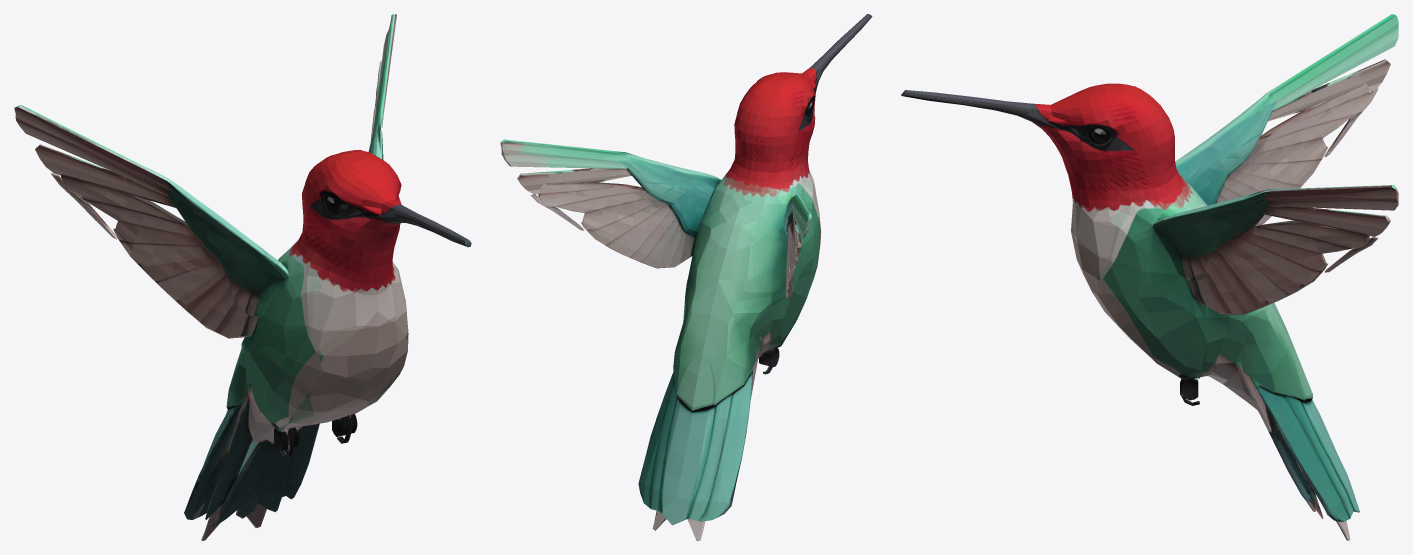
The model's file is tripo_convert_95633708-72a4-43d4-957a-7c63cec19999.fbx.
3 renders of one model, left to right at view 1: azimuth 30°, elevation 25°; view 2: azimuth 150°, elevation 25°; view 3: azimuth 270°, elevation 25°, orthographic. The views are drawn at different scales.
Visible parts, largest first — view 1: tripo_node_95633708; view 2: tripo_node_95633708; view 3: tripo_node_95633708.
Boxes of the visible parts, x1=… form: tripo_node_95633708: x1=14, y1=14, x2=471, y2=540; tripo_node_95633708: x1=500, y1=14, x2=872, y2=540; tripo_node_95633708: x1=901, y1=14, x2=1398, y2=540.
Bounding box in the file's own units: 78.42 × 91.95 × 94.33.
Materials: 1 (1 with a texture image).
